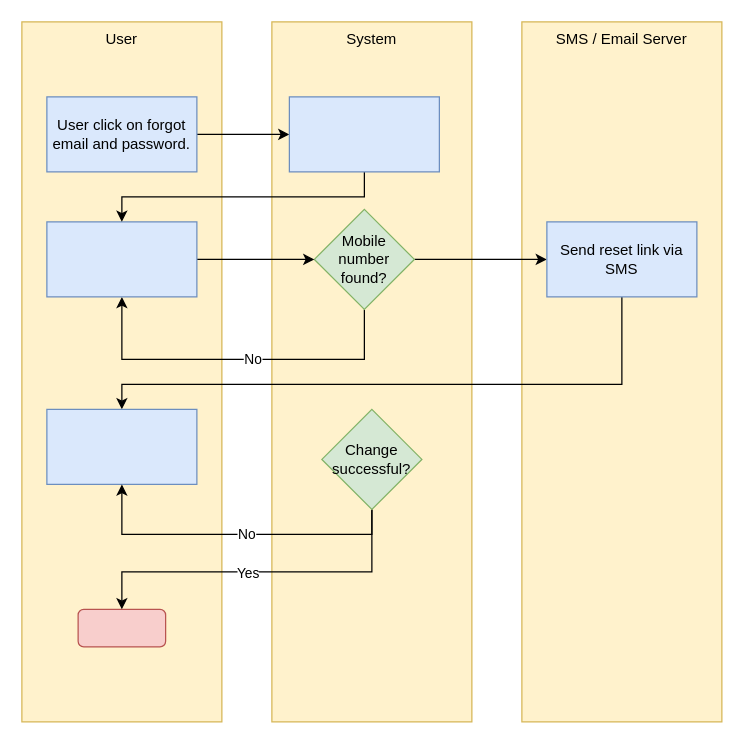
This 744x744 diagram has some shape labels left out. Here are the shapes that lost their labels. From the top down, the centre of each, then its label:
At [363,134]: "System prompt to enter mobile number.".
At [121,259]: "User enter mobile number".
At [121,446]: "User enter new email and password.".
At [121,627]: "END".
